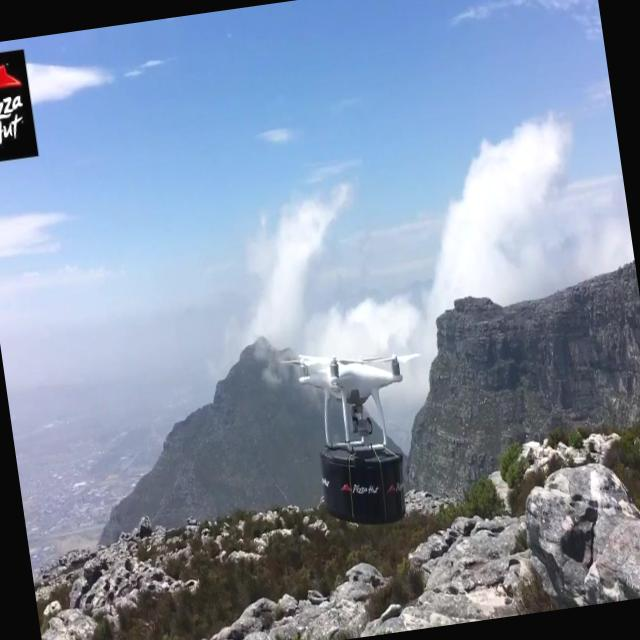drone: (280, 336, 441, 536)
